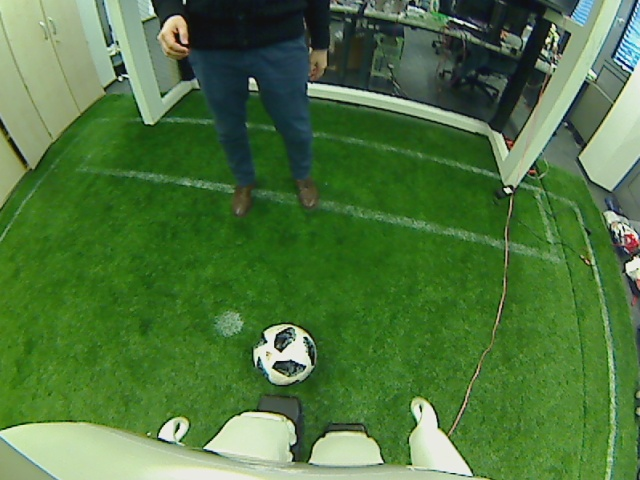ball: (248, 323, 319, 388)
